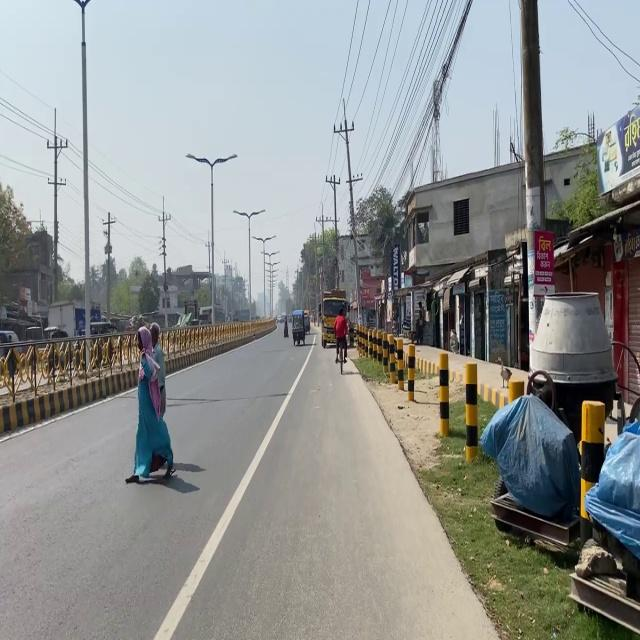Bench: (360, 324, 486, 464)
Construction-barrier: (348, 353, 503, 638), (567, 569, 639, 635)
Dog: (479, 392, 580, 520), (583, 418, 639, 560)
Downstairs: (527, 290, 618, 449)
Garbage-bin: (125, 323, 175, 484), (333, 308, 348, 363)
Traffic-cone: (488, 291, 639, 634), (320, 288, 348, 348), (290, 309, 309, 345)
